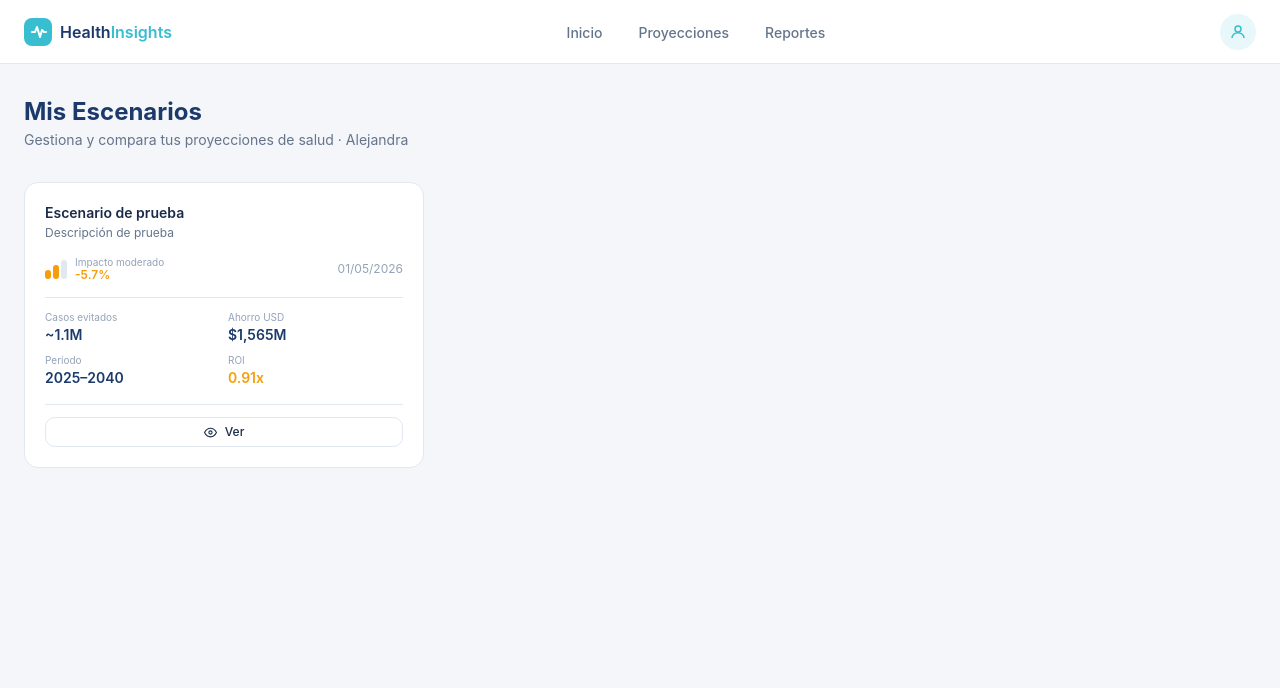
it: FinanzasProyeccionesPage › abre el modal de edición al hacer clic en Editar desde el detalle
Expected: the heading "Escenario de prueba" is shown, top-left (45, 204), bottom-right (184, 221)
Click the button "Ver".
click(224, 432)  # box top-left (45, 417), bottom-right (403, 447)
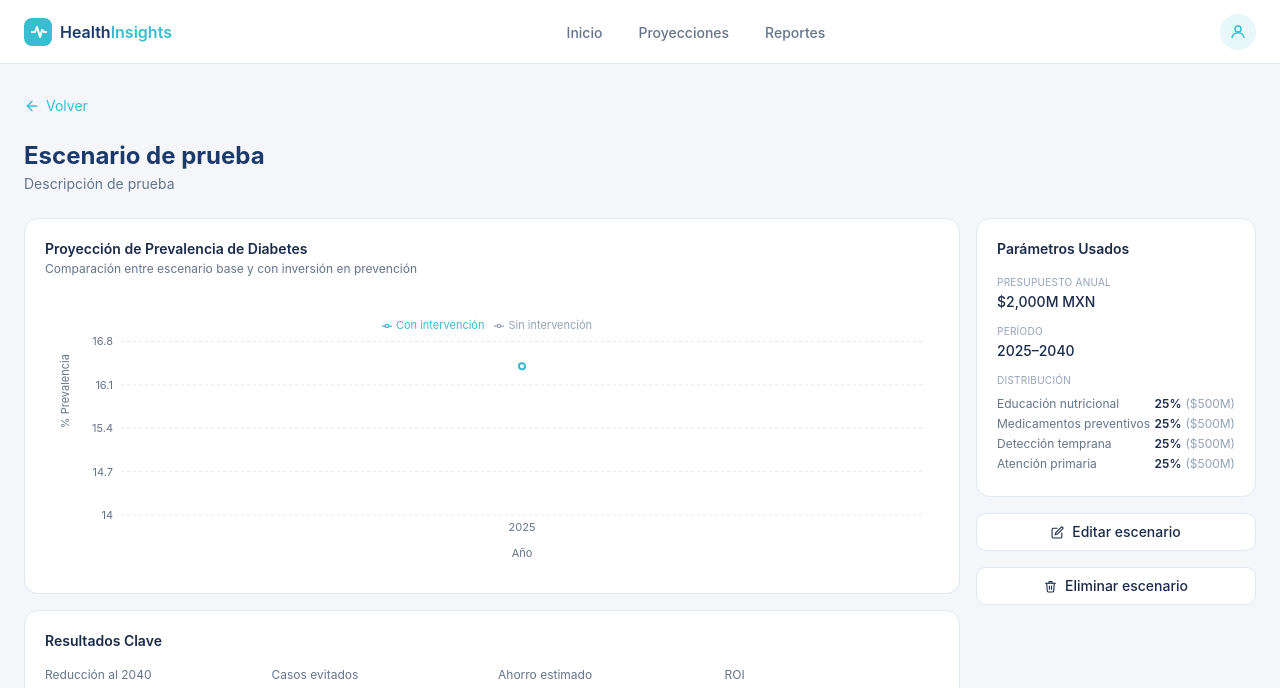
Result: the button "Editar escenario" is shown
Click the button "Editar escenario".
click(1116, 532)  # box top-left (976, 513), bottom-right (1256, 551)
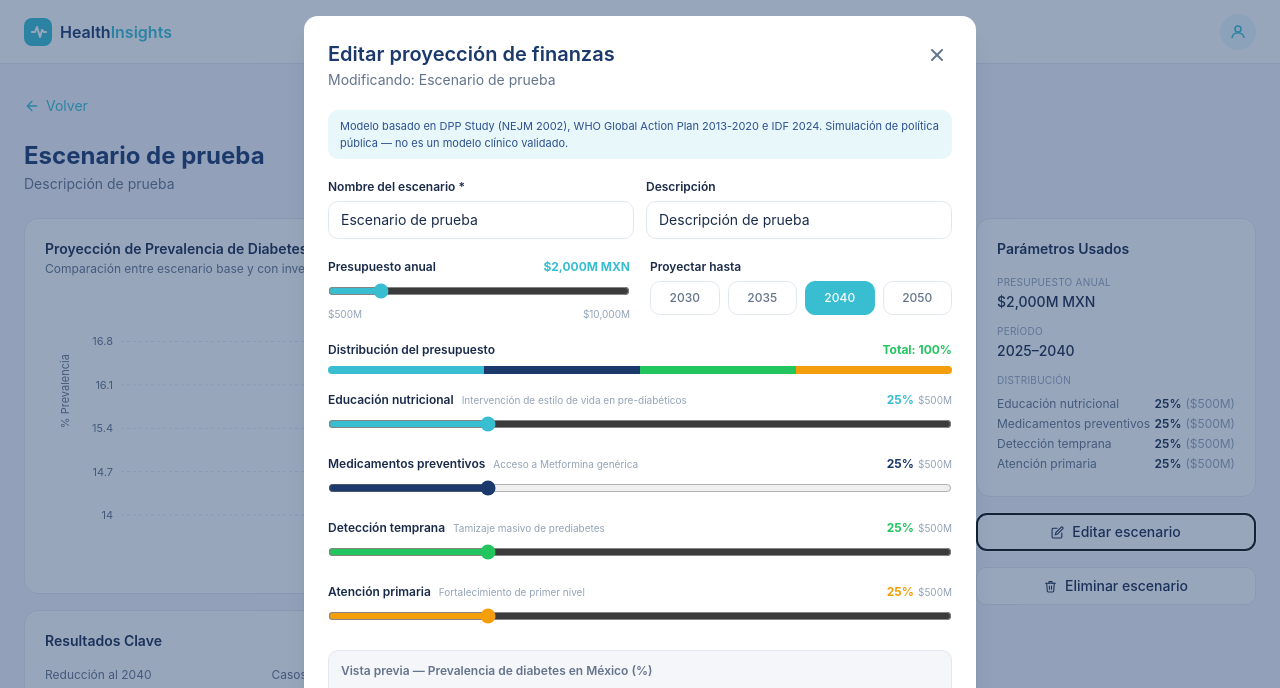
Result: the heading "Editar proyección de finanzas" is shown at top-left (328, 40), bottom-right (615, 68)
